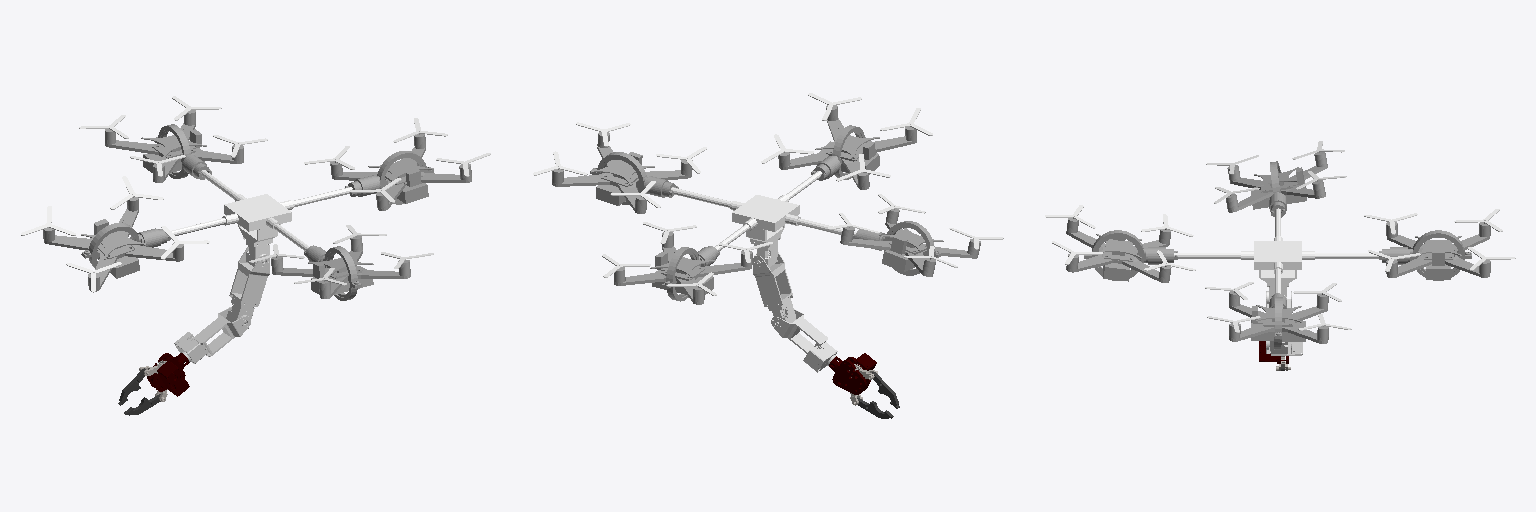
--- Render facts (derived) ---
The picture shows the robot from 3 angles, left to right: view 1: azimuth 30°, elevation 25°; view 2: azimuth 150°, elevation 25°; view 3: azimuth 270°, elevation 25°; orthographic projection.
Robot: aerialvkc_v3000_description — 32 links, 31 joints (31 continuous); root link base_link; default pose: all joints at 0.
Links seen in each view (by area): view 1: base_link, crazyflie44/base_link, crazyflie22/base_link, crazyflie11/base_link, crazyflie33/base_link, arm_link_I, arm_link_II, gripper_base_link, hinge_link_IV, hinge_link_II, hinge_link_I, hinge_link_III; view 2: base_link, crazyflie22/base_link, crazyflie33/base_link, crazyflie44/base_link, crazyflie11/base_link, arm_link_I, arm_link_II, gripper_base_link, hinge_link_II, hinge_link_I, hinge_link_III, hinge_link_IV; view 3: base_link, crazyflie33/base_link, crazyflie11/base_link, crazyflie22/base_link, crazyflie44/base_link, hinge_link_III, hinge_link_I, hinge_link_IV, hinge_link_II.
Link boxes in pixels (x1,y1,x2,y2): base_link: (171, 170, 352, 266); crazyflie44/base_link: (43, 194, 183, 291); crazyflie22/base_link: (330, 131, 471, 210); crazyflie11/base_link: (105, 110, 243, 182); crazyflie33/base_link: (271, 236, 410, 298); arm_link_I: (226, 247, 269, 328); arm_link_II: (174, 307, 250, 363); gripper_base_link: (147, 353, 189, 396); hinge_link_IV: (81, 223, 170, 268); hinge_link_II: (345, 151, 433, 204); hinge_link_I: (155, 124, 211, 179); hinge_link_III: (304, 245, 361, 300); base_link: (671, 171, 856, 267); crazyflie22/base_link: (552, 132, 692, 213); crazyflie33/base_link: (778, 105, 916, 189); crazyflie44/base_link: (840, 206, 980, 276); crazyflie11/base_link: (614, 230, 752, 304); arm_link_I: (753, 252, 796, 324); arm_link_II: (771, 309, 837, 372); gripper_base_link: (829, 353, 876, 394); hinge_link_II: (590, 152, 678, 204); hinge_link_I: (662, 246, 719, 301); hinge_link_III: (811, 125, 866, 180); hinge_link_IV: (853, 221, 940, 275); base_link: (1174, 208, 1381, 303); crazyflie33/base_link: (1066, 216, 1171, 282); crazyflie11/base_link: (1386, 220, 1490, 279); crazyflie22/base_link: (1229, 289, 1328, 343); crazyflie44/base_link: (1226, 152, 1327, 212); hinge_link_III: (1084, 230, 1177, 280); hinge_link_I: (1379, 230, 1471, 280); hinge_link_IV: (1269, 161, 1286, 217); hinge_link_II: (1269, 293, 1286, 349).
Size in the robot's own frame: 0.5923 by 0.5879 by 0.2772 metres.
Meshes: 32 distinct files referenced, 32 mesh visuals loaded (32 binary STL).

URDF robot description (aerialvkc_v3000_description):
<?xml version="1.0" encoding="utf-8"?>
<!-- This URDF was automatically created by SolidWorks to URDF Exporter! Originally created by Stephen Brawner ([email redacted]) 
     Commit Version: 1.6.0-4-g7f85cfe  Build Version: 1.6.7995.38578
     For more information, please see http://wiki.ros.org/sw_urdf_exporter -->
<robot
  name="aerialvkc_v3000_description">
  <link
    name="base_link">
    <inertial>
      <origin
        xyz="1.48132749672181E-06 -0.000128518507548026 -0.0186756580403975"
        rpy="0 0 0" />
      <mass
        value="0.0852219238436207" />
      <inertia
        ixx="2.92200472097296E-05"
        ixy="-8.40191538166482E-11"
        ixz="1.3785811308194E-09"
        iyy="2.73759047460707E-05"
        iyz="-2.65992896723796E-09"
        izz="5.10775637259083E-05" />
    </inertial>
    <visual>
      <origin
        xyz="0 0 0"
        rpy="0 0 0" />
      <geometry>
        <mesh
          filename="package://aerialvkc_v3000_description/meshes/base_link.STL" />
      </geometry>
      <material
        name="">
        <color
          rgba="1 1 1 1" />
      </material>
    </visual>
    <collision>
      <origin
        xyz="0 0 0"
        rpy="0 0 0" />
      <geometry>
        <mesh
          filename="package://aerialvkc_v3000_description/meshes/base_link.STL" />
      </geometry>
    </collision>
  </link>
  <link
    name="hinge_link_I">
    <inertial>
      <origin
        xyz="-0.0286920658868101 -2.09776640502923E-12 0.000129765701351203"
        rpy="0 0 0" />
      <mass
        value="0.0180481140635355" />
      <inertia
        ixx="1.14996315873899E-06"
        ixy="-2.80155247515752E-16"
        ixz="-4.90018086254004E-14"
        iyy="4.77573925274109E-06"
        iyz="-2.69085765053552E-14"
        izz="4.43859152295461E-06" />
    </inertial>
    <visual>
      <origin
        xyz="0 0 0"
        rpy="0 0 0" />
      <geometry>
        <mesh
          filename="package://aerialvkc_v3000_description/meshes/hinge_link_I.STL" />
      </geometry>
      <material
        name="">
        <color
          rgba="0.698039215686274 0.698039215686274 0.698039215686274 1" />
      </material>
    </visual>
    <collision>
      <origin
        xyz="0 0 0"
        rpy="0 0 0" />
      <geometry>
        <mesh
          filename="package://aerialvkc_v3000_description/meshes/hinge_link_I.STL" />
      </geometry>
    </collision>
  </link>
  <joint
    name="hinge_joint_I"
    type="continuous">
    <origin
      xyz="0 0.200000000000009 -0.00599999999999989"
      rpy="0.00518564126547178 0 1.5707963267949" />
    <parent
      link="base_link" />
    <child
      link="hinge_link_I" />
    <axis
      xyz="1 0 0" />
  </joint>
  <link
    name="crazyflie11/base_link">
    <inertial>
      <origin
        xyz="4.7277807986898E-05 -0.000242548958398092 -0.00256688589947934"
        rpy="0 0 0" />
      <mass
        value="0.0934996333792319" />
      <inertia
        ixx="4.92603412266741E-05"
        ixy="-1.92395335842271E-11"
        ixz="-1.15879177735369E-14"
        iyy="4.17272140348144E-05"
        iyz="2.11721011582016E-07"
        izz="8.39136565814911E-05" />
    </inertial>
    <visual>
      <origin
        xyz="0 0 0"
        rpy="0 0 0" />
      <geometry>
        <mesh
          filename="package://aerialvkc_v3000_description/meshes/crazyflie11/base_link.STL" />
      </geometry>
      <material
        name="">
        <color
          rgba="0.698039215686274 0.698039215686274 0.698039215686274 1" />
      </material>
    </visual>
    <collision>
      <origin
        xyz="0 0 0"
        rpy="0 0 0" />
      <geometry>
        <mesh
          filename="package://aerialvkc_v3000_description/meshes/crazyflie11/base_link.STL" />
      </geometry>
    </collision>
  </link>
  <joint
    name="gimbal_joint_I"
    type="continuous">
    <origin
      xyz="0 0 0"
      rpy="0 -0.00405398778622896 0" />
    <parent
      link="hinge_link_I" />
    <child
      link="crazyflie11/base_link" />
    <axis
      xyz="0 -1 0" />
  </joint>
  <link
    name="prolink_I_I">
    <inertial>
      <origin
        xyz="1.0547118733939E-14 5.20673305899333E-05 0.000500000000002887"
        rpy="0 0 0" />
      <mass
        value="0.000657768846435091" />
      <inertia
        ixx="1.60093905219262E-07"
        ixy="3.04402465419514E-22"
        ixz="1.61145123082987E-22"
        iyy="1.58813263600953E-07"
        iyz="-1.81359349302251E-22"
        izz="3.18797540679143E-07" />
    </inertial>
    <visual>
      <origin
        xyz="0 0 0"
        rpy="0 0 0" />
      <geometry>
        <mesh
          filename="package://aerialvkc_v3000_description/meshes/prolink_I_I.STL" />
      </geometry>
      <material
        name="">
        <color
          rgba="1 1 1 1" />
      </material>
    </visual>
    <collision>
      <origin
        xyz="0 0 0"
        rpy="0 0 0" />
      <geometry>
        <mesh
          filename="package://aerialvkc_v3000_description/meshes/prolink_I_I.STL" />
      </geometry>
    </collision>
  </link>
  <joint
    name="projoint_I_I"
    type="continuous">
    <origin
      xyz="-0.0580370958807339 0.0555608345534356 0.0210499999999688"
      rpy="0 0 1.10424755267301" />
    <parent
      link="crazyflie11/base_link" />
    <child
      link="prolink_I_I" />
    <axis
      xyz="0 0 1" />
  </joint>
  <link
    name="prolink_I_II">
    <inertial>
      <origin
        xyz="-1.04931939338138E-05 5.09990176109087E-05 0.000500000000002998"
        rpy="0 0 0" />
      <mass
        value="0.000657768846435093" />
      <inertia
        ixx="1.60041892161909E-07"
        ixy="2.52793844475622E-10"
        ixz="8.84049279666048E-23"
        iyy="1.58865276658305E-07"
        iyz="-7.82978148569725E-23"
        izz="3.18797540679141E-07" />
    </inertial>
    <visual>
      <origin
        xyz="0 0 0"
        rpy="0 0 0" />
      <geometry>
        <mesh
          filename="package://aerialvkc_v3000_description/meshes/prolink_I_II.STL" />
      </geometry>
      <material
        name="">
        <color
          rgba="1 1 1 1" />
      </material>
    </visual>
    <collision>
      <origin
        xyz="0 0 0"
        rpy="0 0 0" />
      <geometry>
        <mesh
          filename="package://aerialvkc_v3000_description/meshes/prolink_I_II.STL" />
      </geometry>
    </collision>
  </link>
  <joint
    name="projoint_I_II"
    type="continuous">
    <origin
      xyz="0.0580370958812072 0.0555608345539184 0.0210499999999653"
      rpy="0 0 -0.663519439198283" />
    <parent
      link="crazyflie11/base_link" />
    <child
      link="prolink_I_II" />
    <axis
      xyz="0 0 1" />
  </joint>
  <link
    name="prolink_I_III">
    <inertial>
      <origin
        xyz="-1.90407394590197E-06 5.20325034606868E-05 0.000500000000002554"
        rpy="0 0 0" />
      <mass
        value="0.000657768846435069" />
      <inertia
        ixx="1.60092192585075E-07"
        ixy="4.6801041599918E-11"
        ixz="-7.42138109531619E-23"
        iyy="1.58814976235129E-07"
        iyz="-5.5524498617622E-23"
        izz="3.18797540679131E-07" />
    </inertial>
    <visual>
      <origin
        xyz="0 0 0"
        rpy="0 0 0" />
      <geometry>
        <mesh
          filename="package://aerialvkc_v3000_description/meshes/prolink_I_III.STL" />
      </geometry>
      <material
        name="">
        <color
          rgba="1 1 1 1" />
      </material>
    </visual>
    <collision>
      <origin
        xyz="0 0 0"
        rpy="0 0 0" />
      <geometry>
        <mesh
          filename="package://aerialvkc_v3000_description/meshes/prolink_I_III.STL" />
      </geometry>
    </collision>
  </link>
  <joint
    name="projoint_I_III"
    type="continuous">
    <origin
      xyz="0.0580370958804296 -0.0545608345526662 0.0210500000000247"
      rpy="0 0 -1.57077530421496" />
    <parent
      link="crazyflie11/base_link" />
    <child
      link="prolink_I_III" />
    <axis
      xyz="0 0 1" />
  </joint>
  <link
    name="prolink_I_IV">
    <inertial>
      <origin
        xyz="-2.06085148946045E-14 5.20673305122177E-05 0.000500000000002998"
        rpy="0 0 0" />
      <mass
        value="0.000657768846435101" />
      <inertia
        ixx="1.60093905219265E-07"
        ixy="-5.29395592033938E-22"
        ixz="3.44830917858043E-22"
        iyy="1.58813263600954E-07"
        iyz="2.25380867526558E-22"
        izz="3.18797540679146E-07" />
    </inertial>
    <visual>
      <origin
        xyz="0 0 0"
        rpy="0 0 0" />
      <geometry>
        <mesh
          filename="package://aerialvkc_v3000_description/meshes/prolink_I_IV.STL" />
      </geometry>
      <material
        name="">
        <color
          rgba="1 1 1 1" />
      </material>
    </visual>
    <collision>
      <origin
        xyz="0 0 0"
        rpy="0 0 0" />
      <geometry>
        <mesh
          filename="package://aerialvkc_v3000_description/meshes/prolink_I_IV.STL" />
      </geometry>
    </collision>
  </link>
  <joint
    name="projoint_I_IV"
    type="continuous">
    <origin
      xyz="-0.0580370958808196 -0.0545608345536692 0.021050000000026"
      rpy="0 0 2.97788495714067" />
    <parent
      link="crazyflie11/base_link" />
    <child
      link="prolink_I_IV" />
    <axis
      xyz="0 0 1" />
  </joint>
  <link
    name="hinge_link_II">
    <inertial>
      <origin
        xyz="-0.0286920658625174 -6.13620265710324E-13 0.000129766128506792"
        rpy="0 0 0" />
      <mass
        value="0.0180481140584542" />
      <inertia
        ixx="1.1499631662955E-06"
        ixy="5.61120378748299E-20"
        ixz="2.47952921767015E-18"
        iyy="4.77573926634576E-06"
        iyz="-2.39120533973003E-14"
        izz="4.43859151899919E-06" />
    </inertial>
    <visual>
      <origin
        xyz="0 0 0"
        rpy="0 0 0" />
      <geometry>
        <mesh
          filename="package://aerialvkc_v3000_description/meshes/hinge_link_II.STL" />
      </geometry>
      <material
        name="">
        <color
          rgba="0.698039215686274 0.698039215686274 0.698039215686274 1" />
      </material>
    </visual>
    <collision>
      <origin
        xyz="0 0 0"
        rpy="0 0 0" />
      <geometry>
        <mesh
          filename="package://aerialvkc_v3000_description/meshes/hinge_link_II.STL" />
      </geometry>
    </collision>
  </link>
  <joint
    name="hinge_joint_II"
    type="continuous">
    <origin
      xyz="0.199999999999998 0 -0.00600000000000039"
      rpy="-0.0287956813296177 0 0" />
    <parent
      link="base_link" />
    <child
      link="hinge_link_II" />
    <axis
      xyz="1 0 0" />
  </joint>
  <link
    name="crazyflie22/base_link">
    <inertial>
      <origin
        xyz="0.000260025205274461 -0.000242548958405142 -0.00255411928161065"
        rpy="0 0 0" />
      <mass
        value="0.0934996333792317" />
      <inertia
        ixx="4.94987515477189E-05"
        ixy="-1.75803692106723E-08"
        ixz="-2.86441417358484E-06"
        iyy="4.17272140348139E-05"
        iyz="2.10989852183832E-07"
        izz="8.36752462604459E-05" />
    </inertial>
    <visual>
      <origin
        xyz="0 0 0"
        rpy="0 0 0" />
      <geometry>
        <mesh
          filename="package://aerialvkc_v3000_description/meshes/crazyflie22/base_link.STL" />
      </geometry>
      <material
        name="">
        <color
          rgba="0.698039215686274 0.698039215686274 0.698039215686274 1" />
      </material>
    </visual>
    <collision>
      <origin
        xyz="0 0 0"
        rpy="0 0 0" />
      <geometry>
        <mesh
          filename="package://aerialvkc_v3000_description/meshes/crazyflie22/base_link.STL" />
      </geometry>
    </collision>
  </link>
  <joint
    name="gimbal_joint_II"
    type="continuous">
    <origin
      xyz="0 0 0"
      rpy="0 0 0" />
    <parent
      link="hinge_link_II" />
    <child
      link="crazyflie22/base_link" />
    <axis
      xyz="0 -1 0" />
  </joint>
  <link
    name="prolink_II_I">
    <inertial>
      <origin
        xyz="7.51482209793153E-13 -5.20673301678265E-05 0.00049999999979089"
        rpy="0 0 0" />
      <mass
        value="0.000657768846435077" />
      <inertia
        ixx="1.60093905219261E-07"
        ixy="1.9124415762226E-21"
        ixz="1.34416849539867E-22"
        iyy="1.58813263600949E-07"
        iyz="-3.53619711866419E-22"
        izz="3.18797540679137E-07" />
    </inertial>
    <visual>
      <origin
        xyz="0 0 0"
        rpy="0 0 0" />
      <geometry>
        <mesh
          filename="package://aerialvkc_v3000_description/meshes/prolink_II_I.STL" />
      </geometry>
      <material
        name="">
        <color
          rgba="1 1 1 1" />
      </material>
    </visual>
    <collision>
      <origin
        xyz="0 0 0"
        rpy="0 0 0" />
      <geometry>
        <mesh
          filename="package://aerialvkc_v3000_description/meshes/prolink_II_I.STL" />
      </geometry>
    </collision>
  </link>
  <joint
    name="projoint_II_I"
    type="continuous">
    <origin
      xyz="-0.0595830993828221 0.0555608345545135 0.0161635783847631"
      rpy="0.0755920970039211 0.0344063484778542 -1.99713839703144" />
    <parent
      link="crazyflie22/base_link" />
    <child
      link="prolink_II_I" />
    <axis
      xyz="0 0 1" />
  </joint>
  <link
    name="prolink_II_II">
    <inertial>
      <origin
        xyz="-5.18683221605309E-05 4.54797229854087E-06 0.000499999999773015"
        rpy="0 0 0" />
      <mass
        value="0.000657768846435096" />
      <inertia
        ixx="1.58823034455358E-07"
        ixy="1.1143380637116E-10"
        ixz="7.4032664823496E-23"
        iyy="1.60084134364856E-07"
        iyz="-6.82940993239093E-22"
        izz="3.18797540679142E-07" />
    </inertial>
    <visual>
      <origin
        xyz="0 0 0"
        rpy="0 0 0" />
      <geometry>
        <mesh
          filename="package://aerialvkc_v3000_description/meshes/prolink_II_II.STL" />
      </geometry>
      <material
        name="">
        <color
          rgba="1 1 1 1" />
      </material>
    </visual>
    <collision>
      <origin
        xyz="0 0 0"
        rpy="0 0 0" />
      <geometry>
        <mesh
          filename="package://aerialvkc_v3000_description/meshes/prolink_II_II.STL" />
      </geometry>
    </collision>
  </link>
  <joint
    name="projoint_II_II"
    type="continuous">
    <origin
      xyz="0.0560911155447258 0.055560834553689 0.0257913503949391"
      rpy="0.0784644863410207 0.0272130660534785 -1.90396164537388" />
    <parent
      link="crazyflie22/base_link" />
    <child
      link="prolink_II_II" />
    <axis
      xyz="0 0 1" />
  </joint>
  <link
    name="prolink_II_III">
    <inertial>
      <origin
        xyz="-2.07419986428536E-05 4.77574748815046E-05 0.000499999999740819"
        rpy="0 0 0" />
      <mass
        value="0.000657768846435079" />
      <inertia
        ixx="1.59890670359717E-07"
        ixy="4.67938683258318E-10"
        ixz="-1.84047686293049E-22"
        iyy="1.59016498460492E-07"
        iyz="3.83811804224605E-22"
        izz="3.18797540679136E-07" />
    </inertial>
    <visual>
      <origin
        xyz="0 0 0"
        rpy="0 0 0" />
      <geometry>
        <mesh
          filename="package://aerialvkc_v3000_description/meshes/prolink_II_III.STL" />
      </geometry>
      <material
        name="">
        <color
          rgba="1 1 1 1" />
      </material>
    </visual>
    <collision>
      <origin
        xyz="0 0 0"
        rpy="0 0 0" />
      <geometry>
        <mesh
          filename="package://aerialvkc_v3000_description/meshes/prolink_II_III.STL" />
      </geometry>
    </collision>
  </link>
  <joint
    name="projoint_II_III"
    type="continuous">
    <origin
      xyz="0.0560911155449499 -0.0545608345531821 0.0257913503949986"
      rpy="0.0784644863410329 0.0272130660534786 -1.90396164537387" />
    <parent
      link="crazyflie22/base_link" />
    <child
      link="prolink_II_III" />
    <axis
      xyz="0 0 1" />
  </joint>
  <link
    name="prolink_II_IV">
    <inertial>
      <origin
        xyz="5.09296222228339E-05 1.08249937225136E-05 0.000499999999742429"
        rpy="0 0 0" />
      <mass
        value="0.000657768846435079" />
      <inertia
        ixx="1.58868618017891E-07"
        ixy="-2.6043244539803E-10"
        ixz="-2.72969602142499E-23"
        iyy="1.60038550802321E-07"
        iyz="-3.76884166594473E-22"
        izz="3.18797540679139E-07" />
    </inertial>
    <visual>
      <origin
        xyz="0 0 0"
        rpy="0 0 0" />
      <geometry>
        <mesh
          filename="package://aerialvkc_v3000_description/meshes/prolink_II_IV.STL" />
      </geometry>
      <material
        name="">
        <color
          rgba="1 1 1 1" />
      </material>
    </visual>
    <collision>
      <origin
        xyz="0 0 0"
        rpy="0 0 0" />
      <geometry>
        <mesh
          filename="package://aerialvkc_v3000_description/meshes/prolink_II_IV.STL" />
      </geometry>
    </collision>
  </link>
  <joint
    name="projoint_II_IV"
    type="continuous">
    <origin
      xyz="-0.0595830993831619 -0.0545608345535355 0.0161635783847945"
      rpy="0.0784644863410271 0.0272130660534784 -1.90396164537389" />
    <parent
      link="crazyflie22/base_link" />
    <child
      link="prolink_II_IV" />
    <axis
      xyz="0 0 1" />
  </joint>
  <link
    name="hinge_link_III">
    <inertial>
      <origin
        xyz="-0.0286920658808958 2.18658424699925E-13 0.000129766128801556"
        rpy="0 0 0" />
      <mass
        value="0.0180481140621349" />
      <inertia
        ixx="1.14996316009685E-06"
        ixy="7.66630253772555E-21"
        ixz="-8.6233529577341E-19"
        iyy="4.77573925518498E-06"
        iyz="-2.63595495794425E-14"
        izz="4.43859152224334E-06" />
    </inertial>
    <visual>
      <origin
        xyz="0 0 0"
        rpy="0 0 0" />
      <geometry>
        <mesh
          filename="package://aerialvkc_v3000_description/meshes/hinge_link_III.STL" />
      </geometry>
      <material
        name="">
        <color
          rgba="0.698039215686274 0.698039215686274 0.698039215686274 1" />
      </material>
    </visual>
    <collision>
      <origin
        xyz="0 0 0"
        rpy="0 0 0" />
      <geometry>
        <mesh
          filename="package://aerialvkc_v3000_description/meshes/hinge_link_III.STL" />
      </geometry>
    </collision>
  </link>
  <joint
    name="hinge_joint_III"
    type="continuous">
    <origin
      xyz="0 -0.2 -0.00600000000000006"
      rpy="0.010335172419835 0 -1.5707963267949" />
    <parent
      link="base_link" />
    <child
      link="hinge_link_III" />
    <axis
      xyz="1 0 0" />
  </joint>
  <link
    name="crazyflie33/base_link">
    <inertial>
      <origin
        xyz="4.72778079948499E-05 -0.000242548958406419 -0.00256688589947895"
        rpy="0 0 0" />
      <mass
        value="0.0934996333792321" />
      <inertia
        ixx="4.92603412266742E-05"
        ixy="-1.92395334444135E-11"
        ixz="-1.15879799245794E-14"
        iyy="4.17272140348142E-05"
        iyz="2.11721011560071E-07"
        izz="8.39136565814913E-05" />
    </inertial>
    <visual>
      <origin
        xyz="0 0 0"
        rpy="0 0 0" />
      <geometry>
        <mesh
          filename="package://aerialvkc_v3000_description/meshes/crazyflie33/base_link.STL" />
      </geometry>
      <material
        name="">
        <color
          rgba="0.698039215686274 0.698039215686274 0.698039215686274 1" />
      </material>
    </visual>
    <collision>
      <origin
        xyz="0 0 0"
        rpy="0 0 0" />
      <geometry>
        <mesh
          filename="package://aerialvkc_v3000_description/meshes/crazyflie33/base_link.STL" />
      </geometry>
    </collision>
  </link>
  <joint
    name="gimbal_joint_III"
    type="continuous">
    <origin
      xyz="0 0 0"
      rpy="0 -0.127462557808115 0" />
    <parent
      link="hinge_link_III" />
    <child
      link="crazyflie33/base_link" />
    <axis
      xyz="0 -1 0" />
  </joint>
  <link
    name="prolink_III_I">
    <inertial>
      <origin
        xyz="-1.7216775078599E-05 -4.9138471421073E-05 0.000499999999804657"
        rpy="0 0 0" />
      <mass
        value="0.000657768846435086" />
      <inertia
        ixx="1.59953881825124E-07"
        ixy="-3.99641383195494E-10"
        ixz="-3.58892988271445E-22"
        iyy="1.58953286995089E-07"
        iyz="2.06795153138257E-22"
        izz="3.18797540679141E-07" />
    </inertial>
    <visual>
      <origin
        xyz="0 0 0"
        rpy="0 0 0" />
      <geometry>
        <mesh
          filename="package://aerialvkc_v3000_description/meshes/prolink_III_I.STL" />
      </geometry>
      <material
        name="">
        <color
          rgba="1 1 1 1" />
      </material>
    </visual>
    <collision>
      <origin
        xyz="0 0 0"
        rpy="0 0 0" />
      <geometry>
        <mesh
          filename="package://aerialvkc_v3000_description/meshes/prolink_III_I.STL" />
      </geometry>
    </collision>
  </link>
  <joint
    name="projoint_III_I"
    type="continuous">
    <origin
      xyz="-0.0580370958826119 0.0555608345531589 0.0210500000001814"
      rpy="0 0 -1.48966793031658" />
    <parent
      link="crazyflie33/base_link" />
    <child
      link="prolink_III_I" />
    <axis
      xyz="0 0 1" />
  </joint>
  <link
    name="prolink_III_II">
    <inertial>
      <origin
        xyz="-4.92400494522816E-05 1.69240829440698E-05 0.000500000000147938"
        rpy="0 0 0" />
      <mass
        value="0.000657768846435089" />
      <inertia
        ixx="1.58948566542123E-07"
        ixy="3.93659359918973E-10"
        ixz="-1.14978105144871E-22"
        iyy="1.59958602278093E-07"
        iyz="-4.96308367531817E-23"
        izz="3.18797540679144E-07" />
    </inertial>
    <visual>
      <origin
        xyz="0 0 0"
        rpy="0 0 0" />
      <geometry>
        <mesh
          filename="package://aerialvkc_v3000_description/meshes/prolink_III_II.STL" />
      </geometry>
      <material
        name="">
        <color
          rgba="1 1 1 1" />
      </material>
    </visual>
    <collision>
      <origin
        xyz="0 0 0"
        rpy="0 0 0" />
      <geometry>
        <mesh
          filename="package://aerialvkc_v3000_description/meshes/prolink_III_II.STL" />
      </geometry>
    </collision>
  </link>
  <joint
    name="projoint_III_II"
    type="continuous">
    <origin
      xyz="0.0580370958807384 0.0555608345530176 0.0210499999999164"
      rpy="0 0 -1.48966793031658" />
    <parent
      link="crazyflie33/base_link" />
    <child
      link="prolink_III_II" />
    <axis
      xyz="0 0 1" />
  </joint>
  <link
    name="prolink_III_III">
    <inertial>
      <origin
        xyz="-8.61076095515223E-06 5.13503811269134E-05 0.000499999999975576"
        rpy="0 0 0" />
      <mass
        value="0.000657768846435087" />
      <inertia
        ixx="1.60058880069487E-07"
        ixy="2.08872935955854E-10"
        ixz="-1.69778820726509E-22"
        iyy="1.58848288750731E-07"
        iyz="-2.81241408268029E-22"
        izz="3.18797540679146E-07" />
    </inertial>
    <visual>
      <origin
        xyz="0 0 0"
        rpy="0 0 0" />
      <geometry>
        <mesh
          filename="package://aerialvkc_v3000_description/meshes/prolink_III_III.STL" />
      </geometry>
      <material
        name="">
        <color
          rgba="1 1 1 1" />
      </material>
    </visual>
    <collision>
      <origin
        xyz="0 0 0"
        rpy="0 0 0" />
      <geometry>
        <mesh
          filename="package://aerialvkc_v3000_description/meshes/prolink_III_III.STL" />
      </geometry>
    </collision>
  </link>
  <joint
    name="projoint_III_III"
    type="continuous">
    <origin
      xyz="0.0580370958809432 -0.0545608345538356 0.0210500000000353"
      rpy="0 0 -1.4896679303166" />
    <parent
      link="crazyflie33/base_link" />
    <child
      link="prolink_III_III" />
    <axis
      xyz="0 0 1" />
  </joint>
  <link
    name="prolink_III_IV">
    <inertial>
      <origin
        xyz="5.20369407975285E-05 -1.77857149941119E-06 0.000500000000126288"
        rpy="0 0 0" />
      <mass
        value="0.000657768846435082" />
      <inertia
        ixx="1.58814757901547E-07"
        ixy="4.37199107530133E-11"
        ixz="1.05465528100511E-22"
        iyy="1.60092410918667E-07"
        iyz="-5.62482816536059E-23"
        izz="3.18797540679141E-07" />
    </inertial>
    <visual>
      <origin
        xyz="0 0 0"
        rpy="0 0 0" />
      <geometry>
        <mesh
          filename="package://aerialvkc_v3000_description/meshes/prolink_III_IV.STL" />
      </geometry>
      <material
        name="">
        <color
          rgba="1 1 1 1" />
      </material>
    </visual>
    <collision>
      <origin
        xyz="0 0 0"
        rpy="0 0 0" />
      <geometry>
        <mesh
          filename="package://aerialvkc_v3000_description/meshes/prolink_III_IV.STL" />
      </geometry>
    </collision>
  </link>
  <joint
    name="projoint_III_IV"
    type="continuous">
    <origin
      xyz="-0.0580370958772718 -0.0545608345588964 0.0210499999999432"
      rpy="0 0 -1.4896679303166" />
    <parent
      link="crazyflie33/base_link" />
    <child
      link="prolink_III_IV" />
    <axis
      xyz="0 0 1" />
  </joint>
  <link
    name="hinge_link_IV">
    <inertial>
      <origin
        xyz="-0.0286920658668609 -3.54316576078872E-12 0.000129766128072806"
        rpy="0 0 0" />
      <mass
        value="0.0180481140578559" />
      <inertia
        ixx="1.14996316628649E-06"
        ixy="7.16390733120724E-19"
        ixz="1.52650612459364E-17"
        iyy="4.77573926634852E-06"
        iyz="-2.381332784271E-14"
        izz="4.43859151898881E-06" />
    </inertial>
    <visual>
      <origin
        xyz="0 0 0"
        rpy="0 0 0" />
      <geometry>
        <mesh
          filename="package://aerialvkc_v3000_description/meshes/hinge_link_IV.STL" />
      </geometry>
      <material
        name="">
        <color
          rgba="0.698039215686274 0.698039215686274 0.698039215686274 1" />
      </material>
    </visual>
    <collision>
      <origin
        xyz="0 0 0"
        rpy="0 0 0" />
      <geometry>
        <mesh
          filename="package://aerialvkc_v3000_description/meshes/hinge_link_IV.STL" />
      </geometry>
    </collision>
  </link>
  <joint
    name="hinge_joint_IV"
    type="continuous">
    <origin
      xyz="-0.200000000000035 0 -0.00599999999975193"
      rpy="-0.175696970810379 0 3.14159265358979" />
    <parent
      link="base_link" />
    <child
      link="hinge_link_IV" />
    <axis
      xyz="1 0 0" />
  </joint>
  <link
    name="crazyflie44/base_link">
    <inertial>
      <origin
        xyz="4.72778079841224E-05 -0.00024254895813558 -0.00256688589968912"
        rpy="0 0 0" />
      <mass
        value="0.093499633379232" />
      <inertia
        ixx="4.92603412266741E-05"
        ixy="-1.92395335526859E-11"
        ixz="-1.15881424093215E-14"
        iyy="4.17272140348142E-05"
        iyz="2.11721011559999E-07"
        izz="8.39136565814913E-05" />
    </inertial>
    <visual>
      <origin
        xyz="0 0 0"
        rpy="0 0 0" />
      <geometry>
        <mesh
          filename="package://aerialvkc_v3000_description/meshes/crazyflie44/base_link.STL" />
      </geometry>
      <material
        name="">
        <color
          rgba="0.698039215686274 0.698039215686274 0.698039215686274 1" />
      </material>
    </visual>
    <collision>
      <origin
        xyz="0 0 0"
        rpy="0 0 0" />
      <geometry>
        <mesh
          filename="package://aerialvkc_v3000_description/meshes/crazyflie44/base_link.STL" />
      </geometry>
    </collision>
  </link>
  <joint
    name="gimbal_joint_IV"
    type="continuous">
    <origin
      xyz="0 0 0"
      rpy="0 0.126399856180809 0" />
    <parent
      link="hinge_link_IV" />
    <child
      link="crazyflie44/base_link" />
    <axis
      xyz="0 -1 0" />
  </joint>
  <link
    name="prolink_IV_I">
    <inertial>
      <origin
        xyz="5.18718707275267E-05 4.50732639226126E-06 0.000499999999348577"
        rpy="0 0 0" />
      <mass
        value="0.000657768846435084" />
      <inertia
        ixx="1.58822860589334E-07"
        ixy="-1.10445464140219E-10"
        ixz="2.81241408268029E-23"
        iyy="1.60084308230878E-07"
        iyz="-3.14328632770151E-23"
        izz="3.1879754067914E-07" />
    </inertial>
    <visual>
      <origin
        xyz="0 0 0"
        rpy="0 0 0" />
      <geometry>
        <mesh
          filename="package://aerialvkc_v3000_description/meshes/prolink_IV_I.STL" />
      </geometry>
      <material
        name="">
        <color
          rgba="1 1 1 1" />
      </material>
    </visual>
    <collision>
      <origin
        xyz="0 0 0"
        rpy="0 0 0" />
      <geometry>
        <mesh
          filename="package://aerialvkc_v3000_description/meshes/prolink_IV_I.STL" />
      </geometry>
    </collision>
  </link>
  <joint
    name="projoint_IV_I"
    type="continuous">
    <origin
      xyz="-0.0580370958802715 0.0555608345536603 0.0210500000004409"
      rpy="0 0 2.52411544180218" />
    <parent
      link="crazyflie44/base_link" />
    <child
      link="prolink_IV_I" />
    <axis
      xyz="0 0 1" />
  </joint>
  <link
    name="prolink_IV_II">
    <inertial>
      <origin
        xyz="1.43218770176645E-14 5.20673311954489E-05 0.00049999999919248"
        rpy="0 0 0" />
      <mass
        value="0.000657768846435095" />
      <inertia
        ixx="1.60093905219262E-07"
        ixy="1.33672386988569E-21"
        ixz="-2.37400835802719E-22"
        iyy="1.58813263600953E-07"
        iyz="-4.08627222601196E-22"
        izz="3.18797540679143E-07" />
    </inertial>
    <visual>
      <origin
        xyz="0 0 0"
        rpy="0 0 0" />
      <geometry>
        <mesh
          filename="package://aerialvkc_v3000_description/meshes/prolink_IV_II.STL" />
      </geometry>
      <material
        name="">
        <color
          rgba="1 1 1 1" />
      </material>
    </visual>
    <collision>
      <origin
        xyz="0 0 0"
        rpy="0 0 0" />
      <geometry>
        <mesh
          filename="package://aerialvkc_v3000_description/meshes/prolink_IV_II.STL" />
      </geometry>
    </collision>
  </link>
  <joint
    name="projoint_IV_II"
    type="continuous">
    <origin
      xyz="0.0580370958804008 0.055560834553266 0.0210500000006031"
      rpy="0 0 -0.524851138144808" />
    <parent
      link="crazyflie44/base_link" />
    <child
      link="prolink_IV_II" />
    <axis
      xyz="0 0 1" />
  </joint>
  <link
    name="prolink_IV_III">
    <inertial>
      <origin
        xyz="1.14130926931466E-13 -5.2067330308353E-05 0.000499999999279688"
        rpy="0 0 0" />
      <mass
        value="0.000657768846435072" />
      <inertia
        ixx="1.60093905219258E-07"
        ixy="1.62127400060393E-21"
        ixz="1.05879118406788E-22"
        iyy="1.5881326360095E-07"
        iyz="1.82289927491373E-22"
        izz="3.18797540679136E-07" />
    </inertial>
    <visual>
      <origin
        xyz="0 0 0"
        rpy="0 0 0" />
      <geometry>
        <mesh
          filename="package://aerialvkc_v3000_description/meshes/prolink_IV_III.STL" />
      </geometry>
      <material
        name="">
        <color
          rgba="1 1 1 1" />
      </material>
    </visual>
    <collision>
      <origin
        xyz="0 0 0"
        rpy="0 0 0" />
      <geometry>
        <mesh
          filename="package://aerialvkc_v3000_description/meshes/prolink_IV_III.STL" />
      </geometry>
    </collision>
  </link>
  <joint
    name="projoint_IV_III"
    type="continuous">
    <origin
      xyz="0.0580370958809931 -0.054560834553372 0.0210500000005089"
      rpy="0 0 1.54314227197888" />
    <parent
      link="crazyflie44/base_link" />
    <child
      link="prolink_IV_III" />
    <axis
      xyz="0 0 1" />
  </joint>
  <link
    name="prolink_IV_IV">
    <inertial>
      <origin
        xyz="-1.97721250466132E-05 4.81671045164389E-05 0.000499999999435286"
        rpy="0 0 0" />
      <mass
        value="0.000657768846435079" />
      <inertia
        ixx="1.59909232099247E-07"
        ixy="4.49884342933237E-10"
        ixz="-6.61744490042422E-23"
        iyy="1.58997936720964E-07"
        iyz="6.61744490042422E-24"
        izz="3.18797540679139E-07" />
    </inertial>
    <visual>
      <origin
        xyz="0 0 0"
        rpy="0 0 0" />
      <geometry>
        <mesh
          filename="package://aerialvkc_v3000_description/meshes/prolink_IV_IV.STL" />
      </geometry>
      <material
        name="">
        <color
          rgba="1 1 1 1" />
      </material>
    </visual>
    <collision>
      <origin
        xyz="0 0 0"
        rpy="0 0 0" />
      <geometry>
        <mesh
          filename="package://aerialvkc_v3000_description/meshes/prolink_IV_IV.STL" />
      </geometry>
    </collision>
  </link>
  <joint
    name="projoint_IV_IV"
    type="continuous">
    <origin
      xyz="-0.058037095880834 -0.0545608345535001 0.0210500000003528"
      rpy="0 0 2.52411544180219" />
    <parent
      link="crazyflie44/base_link" />
    <child
      link="prolink_IV_IV" />
    <axis
      xyz="0 0 1" />
  </joint>
  <link
    name="arm_link_I">
    <inertial>
      <origin
        xyz="0.05253602024707 -4.57926109589946E-06 -0.0168972921267843"
        rpy="0 0 0" />
      <mass
        value="0.0275681136662095" />
      <inertia
        ixx="2.72070258102073E-06"
        ixy="1.37858107076687E-09"
        ixz="2.65992896154086E-09"
        iyy="5.941459455612E-06"
        iyz="8.40191538528037E-11"
        izz="5.56952222893338E-06" />
    </inertial>
    <visual>
      <origin
        xyz="0 0 0"
        rpy="0 0 0" />
      <geometry>
        <mesh
          filename="package://aerialvkc_v3000_description/meshes/arm_link_I.STL" />
      </geometry>
      <material
        name="">
        <color
          rgba="0.882352941176471 0.882352941176471 0.882352941176471 1" />
      </material>
    </visual>
    <collision>
      <origin
        xyz="0 0 0"
        rpy="0 0 0" />
      <geometry>
        <mesh
          filename="package://aerialvkc_v3000_description/meshes/arm_link_I.STL" />
      </geometry>
    </collision>
  </link>
  <joint
    name="arm_joint_I"
    type="continuous">
    <origin
      xyz="0 0.0171000000000001 -0.0640000000000012"
      rpy="1.5707963267949 1.24062427138137 -3.14159265358979" />
    <parent
      link="base_link" />
    <child
      link="arm_link_I" />
    <axis
      xyz="0 0 -1" />
  </joint>
  <link
    name="arm_link_II">
    <inertial>
      <origin
        xyz="0.0522490225899118 2.93617788832412E-06 0.0088589356221796"
        rpy="0 0 0" />
      <mass
        value="0.0244066118573224" />
      <inertia
        ixx="3.05584899796754E-06"
        ixy="-8.40195027234299E-11"
        ixz="-1.81948675529431E-09"
        iyy="4.45896939288554E-06"
        iyz="1.37858045352126E-09"
        izz="3.54593627656304E-06" />
    </inertial>
    <visual>
      <origin
        xyz="0 0 0"
        rpy="0 0 0" />
      <geometry>
        <mesh
          filename="package://aerialvkc_v3000_description/meshes/arm_link_II.STL" />
      </geometry>
      <material
        name="">
        <color
          rgba="0.882352941176471 0.882352941176471 0.882352941176471 1" />
      </material>
    </visual>
    <collision>
      <origin
        xyz="0 0 0"
        rpy="0 0 0" />
      <geometry>
        <mesh
          filename="package://aerialvkc_v3000_description/meshes/arm_link_II.STL" />
      </geometry>
    </collision>
  </link>
  <joint
    name="arm_joint_II"
    type="continuous">
    <origin
      xyz="0.0795000000000011 0 0.000599999999999989"
      rpy="3.14159265358979 0 0.741832302427812" />
    <parent
      link="arm_link_I" />
    <child
      link="arm_link_II" />
    <axis
      xyz="0 0 1" />
  </joint>
  <link
    name="gripper_base_link">
    <inertial>
      <origin
        xyz="-0.0288543831041018 0.0102193705656141 -0.000533524657248041"
        rpy="0 0 0" />
      <mass
        value="0.0269390656546595" />
      <inertia
        ixx="2.71855561283908E-06"
        ixy="-2.25698658019009E-08"
        ixz="6.35938766446021E-08"
        iyy="4.83739569817908E-06"
        iyz="-4.7376840769291E-08"
        izz="3.12049324623483E-06" />
    </inertial>
    <visual>
      <origin
        xyz="0 0 0"
        rpy="0 0 0" />
      <geometry>
        <mesh
          filename="package://aerialvkc_v3000_description/meshes/gripper_base_link.STL" />
      </geometry>
      <material
        name="">
        <color
          rgba="0.23921568627451 0 0 1" />
      </material>
    </visual>
    <collision>
      <origin
        xyz="0 0 0"
        rpy="0 0 0" />
      <geometry>
        <mesh
          filename="package://aerialvkc_v3000_description/meshes/gripper_base_link.STL" />
      </geometry>
    </collision>
  </link>
  <joint
    name="gripper_base_joint"
    type="continuous">
    <origin
      xyz="0.081 0 0.0115"
      rpy="1.58355301227902 0 3.14159265358979" />
    <parent
      link="arm_link_II" />
    <child
      link="gripper_base_link" />
    <axis
      xyz="1 0 0" />
  </joint>
  <link
    name="gear_arm_link_I">
    <inertial>
      <origin
        xyz="0.00267731882910643 0.0106438174366791 0.00892931899279378"
        rpy="0 0 0" />
      <mass
        value="0.00349672383608932" />
      <inertia
        ixx="2.42592643014622E-07"
        ixy="-6.33345976947497E-09"
        ixz="-5.31056533536211E-09"
        iyy="1.67231621577249E-07"
        iyz="-8.94608332147827E-08"
        izz="1.98724712665995E-07" />
    </inertial>
    <visual>
      <origin
        xyz="0 0 0"
        rpy="0 0 0" />
      <geometry>
        <mesh
          filename="package://aerialvkc_v3000_description/meshes/gear_arm_link_I.STL" />
      </geometry>
      <material
        name="">
        <color
          rgba="0.776470588235294 0.756862745098039 0.737254901960784 1" />
      </material>
    </visual>
    <collision>
      <origin
        xyz="0 0 0"
        rpy="0 0 0" />
      <geometry>
        <mesh
          filename="package://aerialvkc_v3000_description/meshes/gear_arm_link_I.STL" />
      </geometry>
    </collision>
  </link>
  <joint
    name="gear_arm_joint_I"
    type="continuous">
    <origin
      xyz="-0.0309999999998418 0.00250000000000006 -0.00899999999985582"
      rpy="3.00938329599883 0 -1.5707963267949" />
    <parent
      link="gripper_base_link" />
    <child
      link="gear_arm_link_I" />
    <axis
      xyz="-1 0 0" />
  </joint>
  <link
    name="gripper_arm_link_I">
    <inertial>
      <origin
        xyz="0.00197818578094229 0.00274999999999997 -0.023361329516465"
        rpy="0 0 0" />
      <mass
        value="0.00213978898611195" />
      <inertia
        ixx="3.67965569591137E-07"
        ixy="3.39144051146741E-23"
        ixz="3.13636809696129E-08"
        iyy="3.85107682847711E-07"
        iyz="-1.95266323350799E-22"
        izz="2.79302160615542E-08" />
    </inertial>
    <visual>
      <origin
        xyz="0 0 0"
        rpy="0 0 0" />
      <geometry>
        <mesh
          filename="package://aerialvkc_v3000_description/meshes/gripper_arm_link_I.STL" />
      </geometry>
      <material
        name="">
        <color
          rgba="0.294117647058824 0.294117647058824 0.294117647058824 1" />
      </material>
    </visual>
    <collision>
      <origin
        xyz="0 0 0"
        rpy="0 0 0" />
      <geometry>
        <mesh
          filename="package://aerialvkc_v3000_description/meshes/gripper_arm_link_I.STL" />
      </geometry>
    </collision>
  </link>
  <joint
    name="gripper_arm_joint_I"
    type="continuous">
    <origin
      xyz="-0.0005 0.0191511113728454 0.0160696904896308"
      rpy="0 1.53958298448806 -1.57079632679495" />
    <parent
      link="gear_arm_link_I" />
    <child
      link="gripper_arm_link_I" />
    <axis
      xyz="0 -1 0" />
  </joint>
  <link
    name="gear_arm_link_II">
    <inertial>
      <origin
        xyz="0.00195026912579577 0.0125207003204885 0.00723101715979743"
        rpy="0 0 0" />
      <mass
        value="0.00335826751583657" />
      <inertia
        ixx="2.34194097650031E-07"
        ixy="1.78464217158316E-22"
        ixz="2.45259051621973E-22"
        iyy="1.32114929674718E-07"
        iyz="-7.58361620076075E-08"
        izz="2.19682282962741E-07" />
    </inertial>
    <visual>
      <origin
        xyz="0 0 0"
        rpy="0 0 0" />
      <geometry>
        <mesh
          filename="package://aerialvkc_v3000_description/meshes/gear_arm_link_II.STL" />
      </geometry>
      <material
        name="">
        <color
          rgba="0.776470588235294 0.756862745098039 0.737254901960784 1" />
      </material>
    </visual>
    <collision>
      <origin
        xyz="0 0 0"
        rpy="0 0 0" />
      <geometry>
        <mesh
          filename="package://aerialvkc_v3000_description/meshes/gear_arm_link_II.STL" />
      </geometry>
    </collision>
  </link>
  <joint
    name="gear_arm_joint_II"
    type="continuous">
    <origin
      xyz="-0.031000000001165 0.00250000000000017 0.00899999999958237"
      rpy="2.0379809891575 0 -1.5707963267949" />
    <parent
      link="gripper_base_link" />
    <child
      link="gear_arm_link_II" />
    <axis
      xyz="1 0 0" />
  </joint>
  <link
    name="gripper_arm_link_II">
    <inertial>
      <origin
        xyz="0.00197818578094229 0.00275000000000003 -0.0233613295164651"
        rpy="0 0 0" />
      <mass
        value="0.00213978898611195" />
      <inertia
        ixx="3.67965569591137E-07"
        ixy="-2.60561892954204E-23"
        ixz="3.13636809696127E-08"
        iyy="3.8510768284771E-07"
        iyz="1.64427996139057E-22"
        izz="2.79302160615542E-08" />
    </inertial>
    <visual>
      <origin
        xyz="0 0 0"
        rpy="0 0 0" />
      <geometry>
        <mesh
          filename="package://aerialvkc_v3000_description/meshes/gripper_arm_link_II.STL" />
      </geometry>
      <material
        name="">
        <color
          rgba="0.294117647058824 0.294117647058824 0.294117647058824 1" />
      </material>
    </visual>
    <collision>
      <origin
        xyz="0 0 0"
        rpy="0 0 0" />
      <geometry>
        <mesh
          filename="package://aerialvkc_v3000_description/meshes/gripper_arm_link_II.STL" />
      </geometry>
    </collision>
  </link>
  <joint
    name="gripper_arm_joint_II"
    type="continuous">
    <origin
      xyz="0.00499999999999989 0.0216506350944628 0.0124999999987991"
      rpy="3.14159265358979 -0.303258744156093 -1.57079632679489" />
    <parent
      link="gear_arm_link_II" />
    <child
      link="gripper_arm_link_II" />
    <axis
      xyz="0 -1 0" />
  </joint>
  <!-- <link
    name="normal_arm_link_I">
    <inertial>
      <origin
        xyz="-0.0193344458147364 0.00771705584223548 -8.88455975456282E-14"
        rpy="0 0 0" />
      <mass
        value="0.00257461585074682" />
      <inertia
        ixx="7.00095704810362E-08"
        ixy="-1.70399206185924E-22"
        ixz="3.36254464505643E-19"
        iyy="8.79760949965136E-08"
        iyz="9.64699389389969E-23"
        izz="1.45016424231698E-07" />
    </inertial>
    <visual>
      <origin
        xyz="0 0 0"
        rpy="0 0 0" />
      <geometry>
        <mesh
          filename="package://aerialvkc_v3000_description/meshes/normal_arm_link_I.STL" />
      </geometry>
      <material
        name="">
        <color
          rgba="1 1 1 1" />
      </material>
    </visual>
    <collision>
      <origin
        xyz="0 0 0"
        rpy="0 0 0" />
      <geometry>
        <mesh
          filename="package://aerialvkc_v3000_description/meshes/normal_arm_link_I.STL" />
      </geometry>
    </collision>
  </link>
  <joint
    name="normal_arm_joint_I"
    type="continuous">
    <origin
      xyz="-0.046 0.00750000000000006 -0.00624999999999996"
      rpy="3.14159265358979 -0.580661153570797 0" />
    <parent
      link="gripper_base_link" />
    <child
      link="normal_arm_link_I" />
    <axis
      xyz="0 -1 0" />
  </joint>
  <link
    name="normal_arm_link_II">
    <inertial>
      <origin
        xyz="-0.0193344458149342 -0.00678294415776332 -8.52373727155964E-14"
        rpy="0 0 0" />
      <mass
        value="0.00257461585074681" />
      <inertia
        ixx="7.00095704810361E-08"
        ixy="8.4475820056978E-23"
        ixz="1.12370094500136E-18"
        iyy="8.7976094996513E-08"
        iyz="5.08199088837266E-23"
        izz="1.45016424231697E-07" />
    </inertial>
    <visual>
      <origin
        xyz="0 0 0"
        rpy="0 0 0" />
      <geometry>
        <mesh
          filename="package://aerialvkc_v3000_description/meshes/normal_arm_link_II.STL" />
      </geometry>
      <material
        name="">
        <color
          rgba="1 1 1 1" />
      </material>
    </visual>
    <collision>
      <origin
        xyz="0 0 0"
        rpy="0 0 0" />
      <geometry>
        <mesh
          filename="package://aerialvkc_v3000_description/meshes/normal_arm_link_II.STL" />
      </geometry>
    </collision>
  </link>
  <joint
    name="normal_arm_joint_II"
    type="continuous">
    <origin
      xyz="-0.046 0.00750000000000012 0.00625000000000005"
      rpy="0 0.594529528607256 0" />
    <parent
      link="gripper_base_link" />
    <child
      link="normal_arm_link_II" />
    <axis
      xyz="0 1 0" />
  </joint> -->
</robot>
